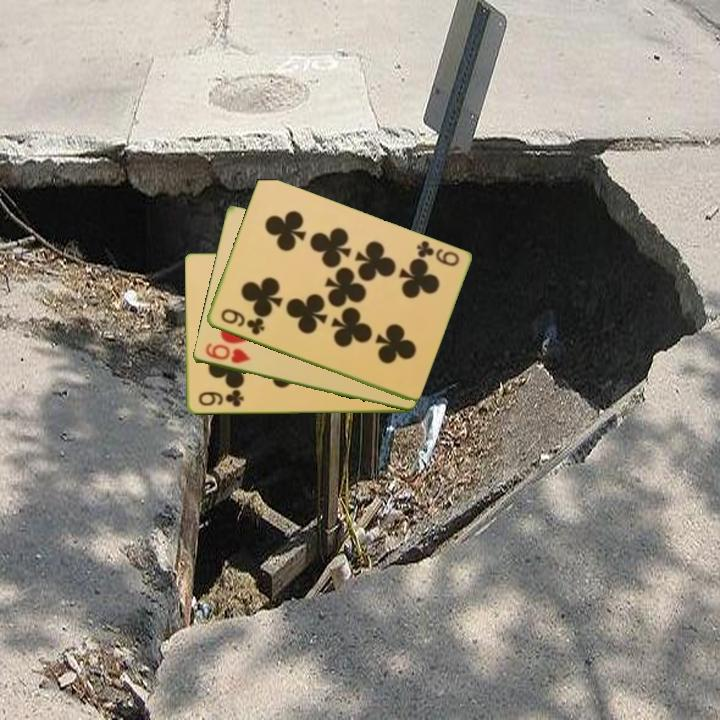6h: (201, 340, 253, 367)
9c: (217, 305, 268, 338), (412, 237, 462, 269), (195, 388, 246, 410)
